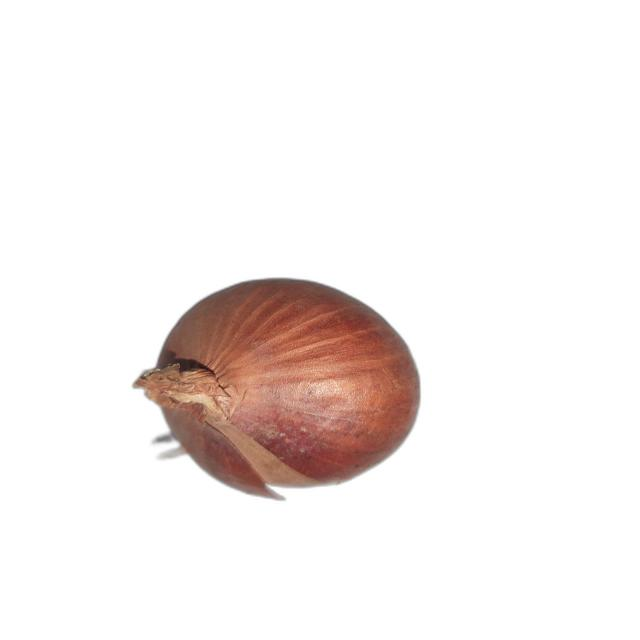onion: (133, 278, 421, 500)
